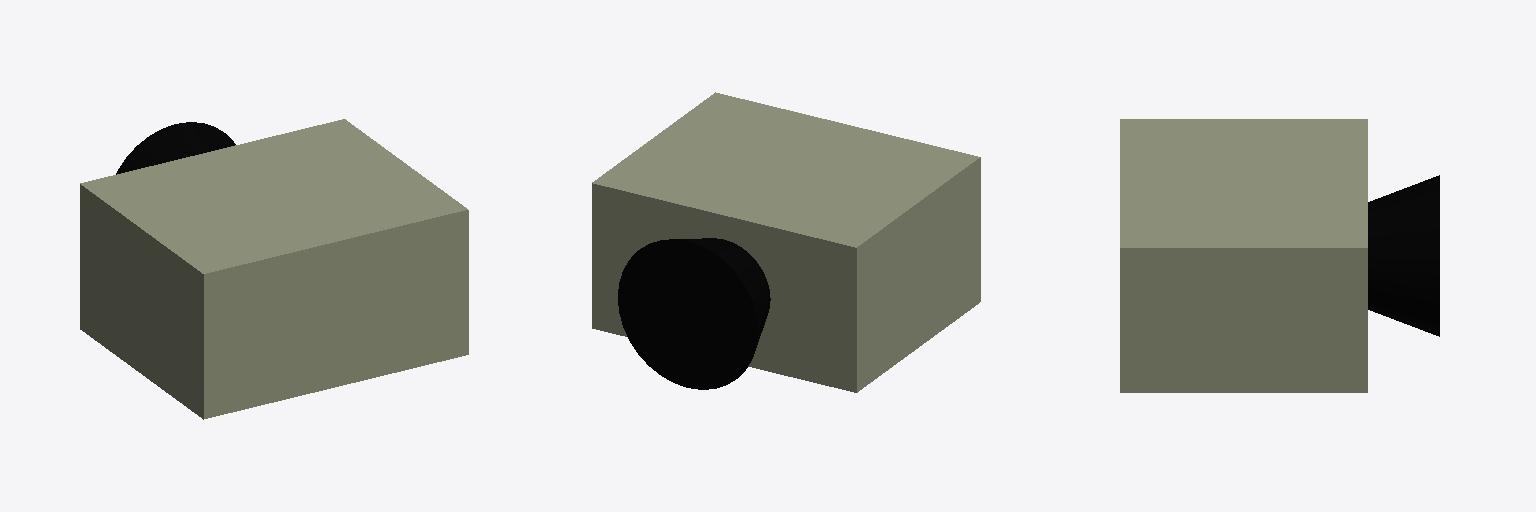
File: projector.obj
3 views of the same model, side by side, from view 1: azimuth 30°, elevation 25°; view 2: azimuth 150°, elevation 25°; view 3: azimuth 270°, elevation 25° (orthographic).
Visible parts, largest first — view 1: Cube, Cone_Cone.003; view 2: Cube, Cone_Cone.003; view 3: Cube, Cone_Cone.003.
Boxes of the visible parts, <box> form: Cube: <box>80,119,468,419</box>; Cone_Cone.003: <box>116,122,235,174</box>; Cube: <box>592,92,980,392</box>; Cone_Cone.003: <box>618,238,770,389</box>; Cube: <box>1120,119,1367,392</box>; Cone_Cone.003: <box>1368,175,1439,336</box>.
Size of the model in its own units: 0.9329 by 0.4946 by 0.9758.